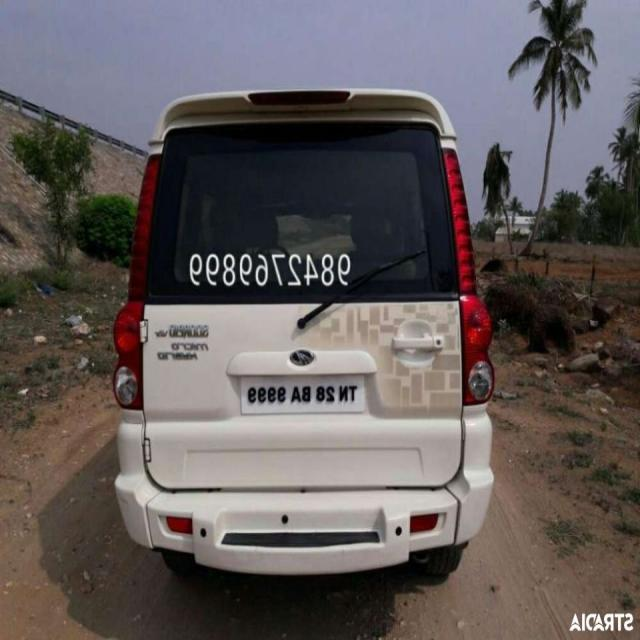number-plate: (234, 379, 361, 422)
